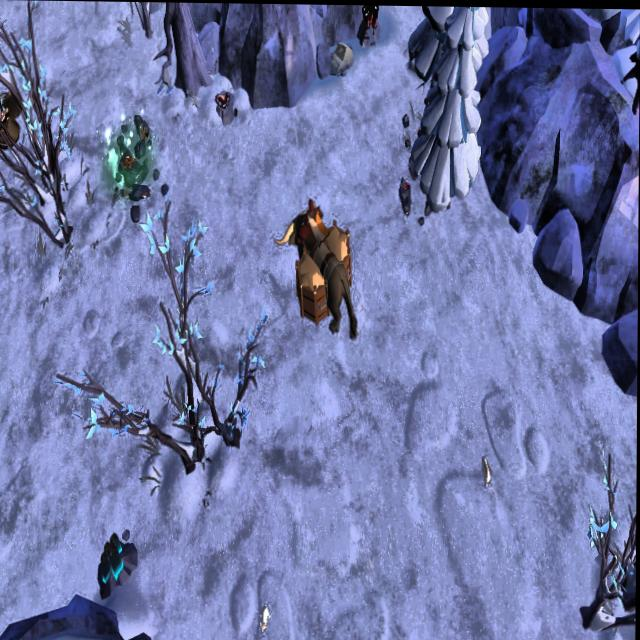ore_t4: (98, 530, 127, 586)
ore_t5: (359, 4, 381, 30)
